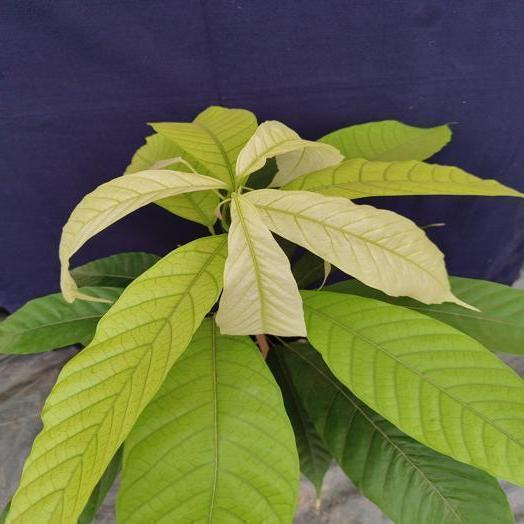Healthy Leaf: (277, 343, 513, 522), (117, 318, 298, 523), (327, 277, 523, 354), (268, 346, 331, 497), (0, 288, 122, 353), (72, 252, 160, 287)
Iron: (8, 235, 224, 523), (305, 291, 523, 483), (244, 189, 472, 308), (59, 170, 224, 302), (216, 196, 305, 335), (282, 159, 523, 199), (152, 106, 256, 188), (236, 120, 342, 186), (236, 121, 340, 181), (318, 120, 451, 160), (124, 133, 211, 175), (269, 142, 343, 186), (158, 192, 217, 227), (163, 163, 191, 170)
